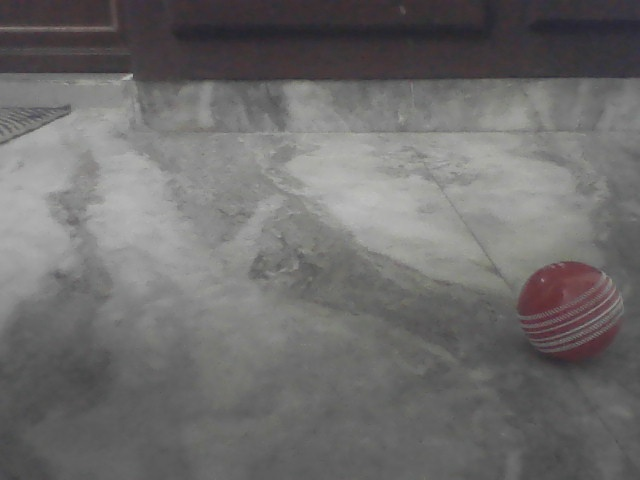cricket_ball: (519, 253, 625, 364)
